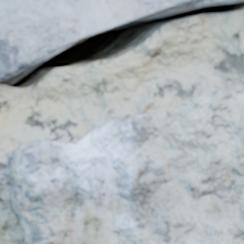brick: (10, 79, 243, 243), (0, 0, 240, 81)
crack: (0, 0, 243, 95)
